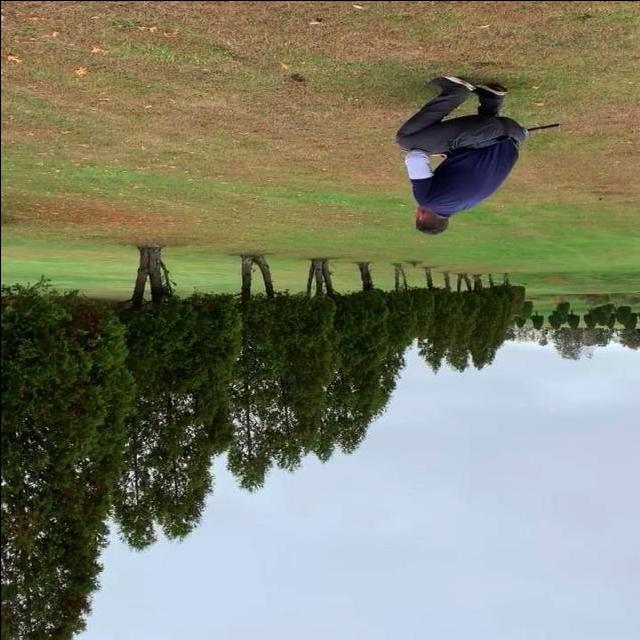ClubHandle: (527, 122, 559, 130)
